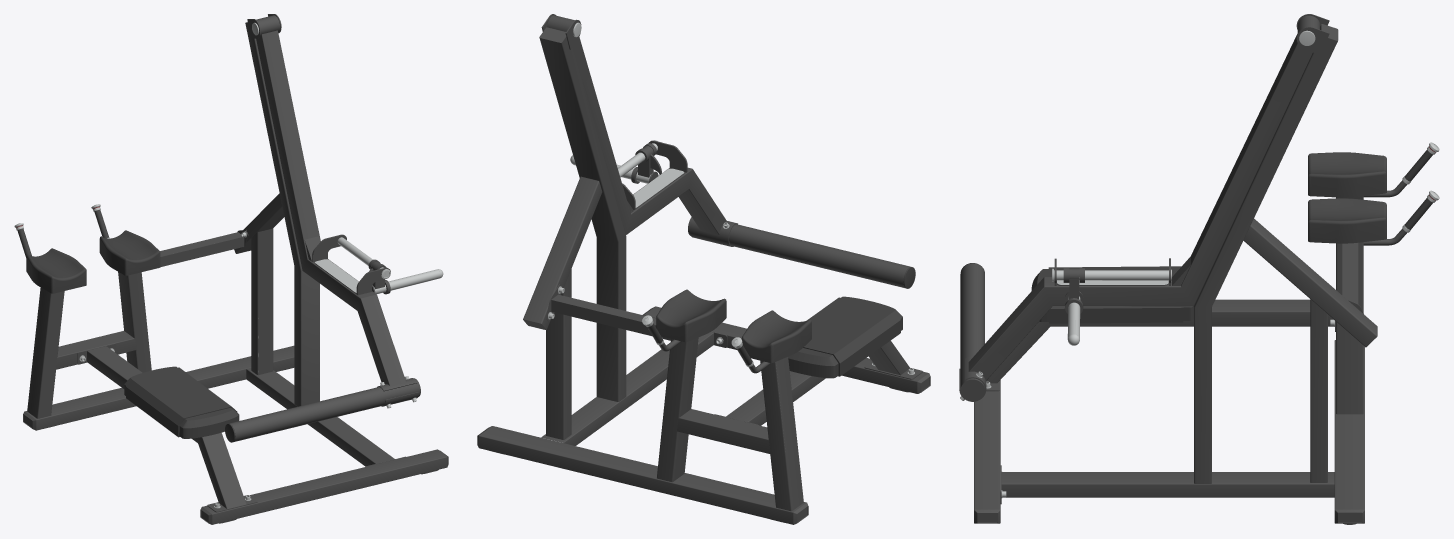
Rendered from Megafitness_94035.glb.
The picture shows the model from 3 angles, left to right: view 1: azimuth 30°, elevation 25°; view 2: azimuth 150°, elevation 25°; view 3: azimuth 270°, elevation 25°; orthographic projection. The views are drawn at different scales.
Parts seen in each view (by area): view 1: Circle.020, Cube.023, Cube.018, Circle.006, Cube.005, Cube.024, Circle.015, Cube.017, Cube.006, Cube.010, Cube.008, Cube.026 (+5 smaller); view 2: Cube.023, Cube.024, Cube.018, Circle.006, Circle.020, Circle.015, Cube.027, Cube.010, Cube.017, Cube.008, Cube.026, Cube.019 (+6 smaller); view 3: Circle.020, Cube.023, Cube.010, Cube.006, Cube.027, Cube.024, Cube.005, Cube.008, Cube.026, Cube.017, Cube.018, Circle.006 (+4 smaller).
Part boxes in pixels (<box>): Circle.020: <box>256,15,406,386</box>; Cube.023: <box>245,22,319,406</box>; Cube.018: <box>27,272,151,418</box>; Circle.006: <box>124,366,239,438</box>; Cube.005: <box>200,449,448,524</box>; Cube.024: <box>23,345,294,430</box>; Circle.015: <box>225,378,420,442</box>; Cube.017: <box>251,228,273,374</box>; Cube.006: <box>87,346,246,508</box>; Cube.010: <box>246,367,394,466</box>; Cube.008: <box>99,230,160,275</box>; Cube.026: <box>26,248,86,293</box>; Cube.023: <box>539,27,626,401</box>; Cube.024: <box>477,426,808,524</box>; Cube.018: <box>657,337,803,511</box>; Circle.006: <box>788,296,902,378</box>; Circle.020: <box>547,15,726,234</box>; Circle.015: <box>688,217,915,288</box>; Cube.027: <box>523,176,602,330</box>; Cube.010: <box>541,332,713,445</box>; Cube.017: <box>546,269,571,439</box>; Cube.008: <box>656,289,726,342</box>; Cube.026: <box>741,310,811,363</box>; Cube.019: <box>677,409,770,453</box>; Circle.020: <box>968,15,1320,380</box>; Cube.023: <box>1194,24,1338,483</box>; Cube.010: <box>1001,472,1334,497</box>; Cube.006: <box>986,299,1334,383</box>; Cube.027: <box>1243,218,1377,347</box>; Cube.024: <box>1334,340,1364,523</box>; Cube.005: <box>974,380,1000,523</box>; Cube.008: <box>1308,198,1386,243</box>; Cube.026: <box>1308,152,1386,197</box>; Cube.017: <box>1310,299,1327,482</box>; Cube.018: <box>1336,196,1363,414</box>; Circle.006: <box>1031,266,1193,323</box>.
Size of the model in its own units: 1.35 by 1.54 by 1.42.
2 materials, 2 textured.
